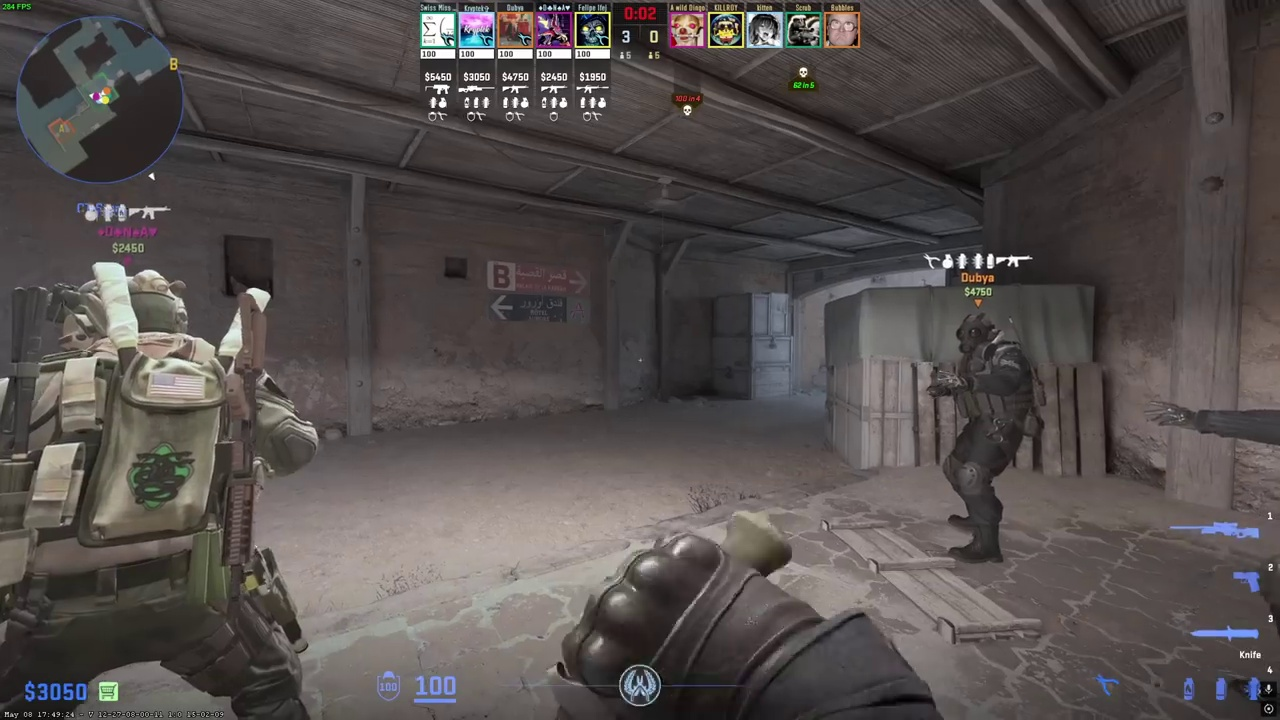CT: (0, 266, 299, 720), (931, 312, 1041, 564)
